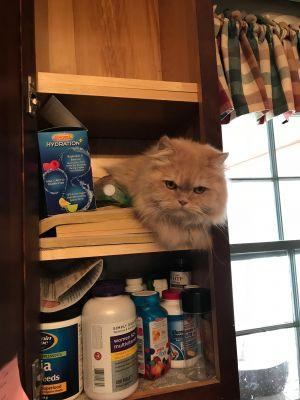persian: (137, 128, 241, 230)
